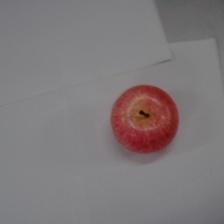red: (109, 82, 180, 155)
